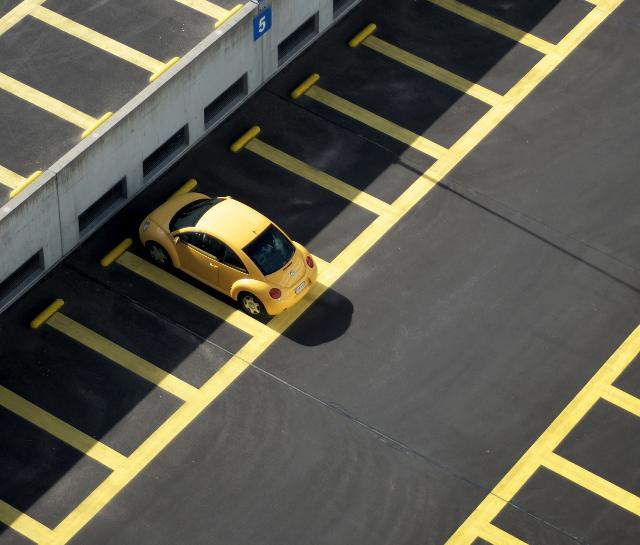Empty: (49, 253, 270, 403), (1, 311, 202, 467), (189, 138, 395, 275), (249, 87, 445, 215), (311, 36, 507, 162), (368, 3, 554, 106)
Filled: (121, 188, 334, 334)
